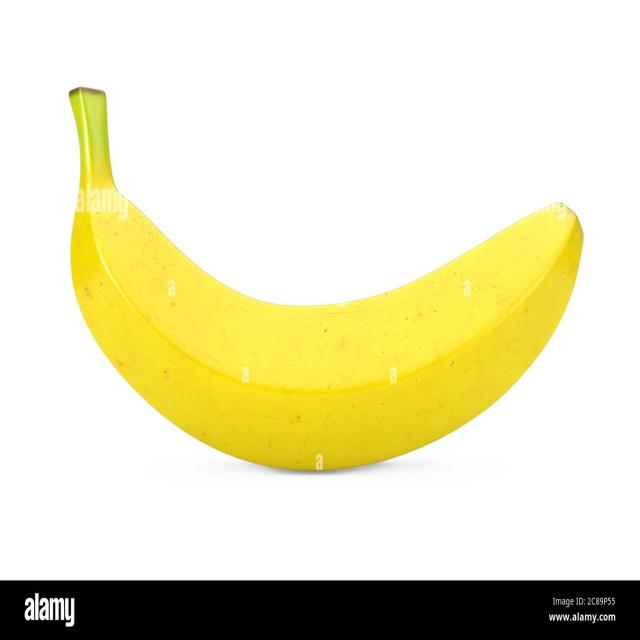non_orange: (63, 83, 586, 480)
